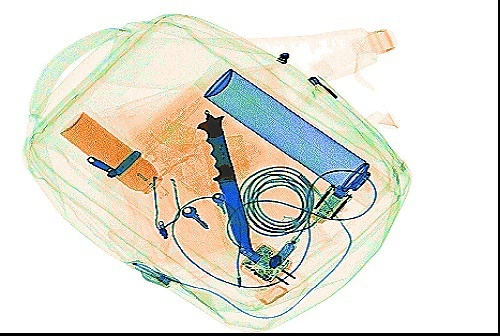knife: (195, 106, 257, 256)
pressure: (201, 66, 392, 210), (57, 109, 169, 198)
